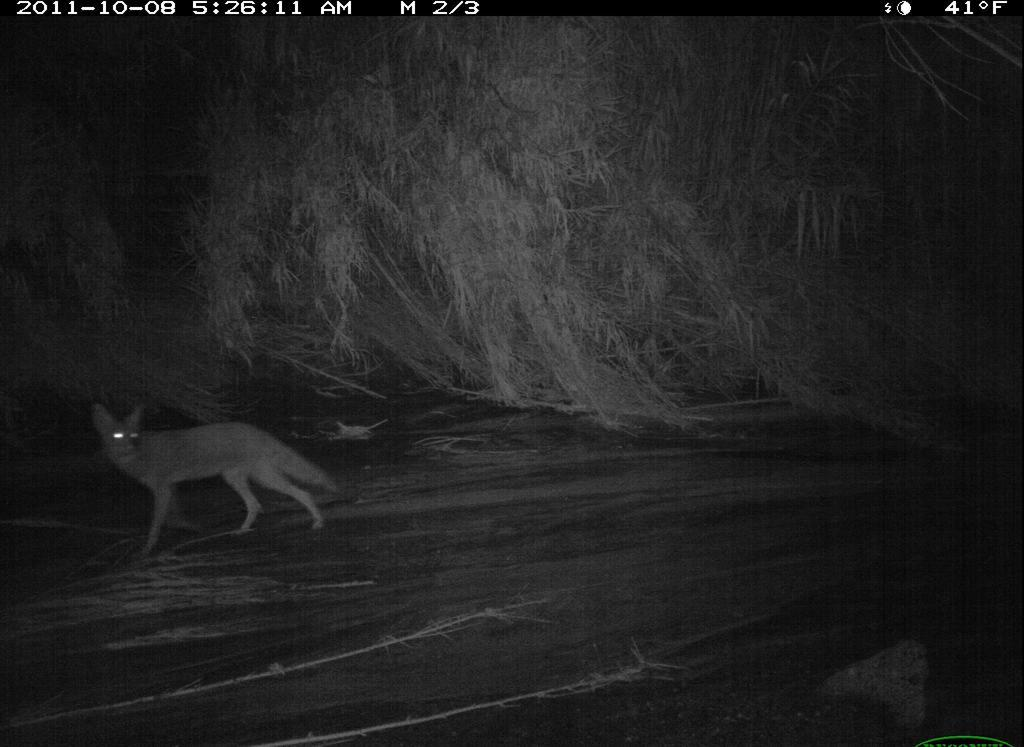coyote: (81, 397, 350, 550)
